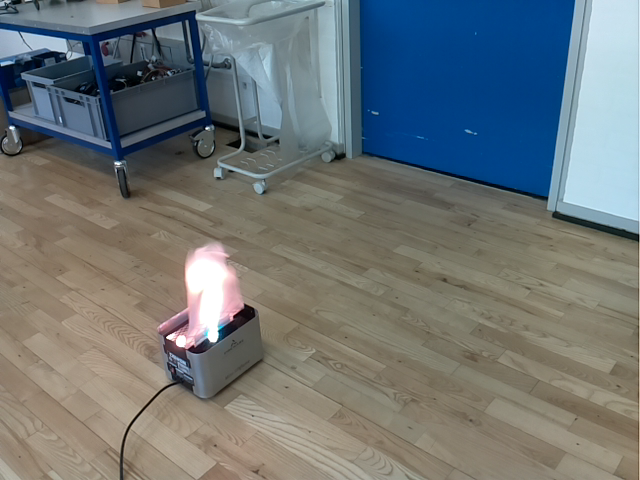fire: (182, 239, 245, 350)
